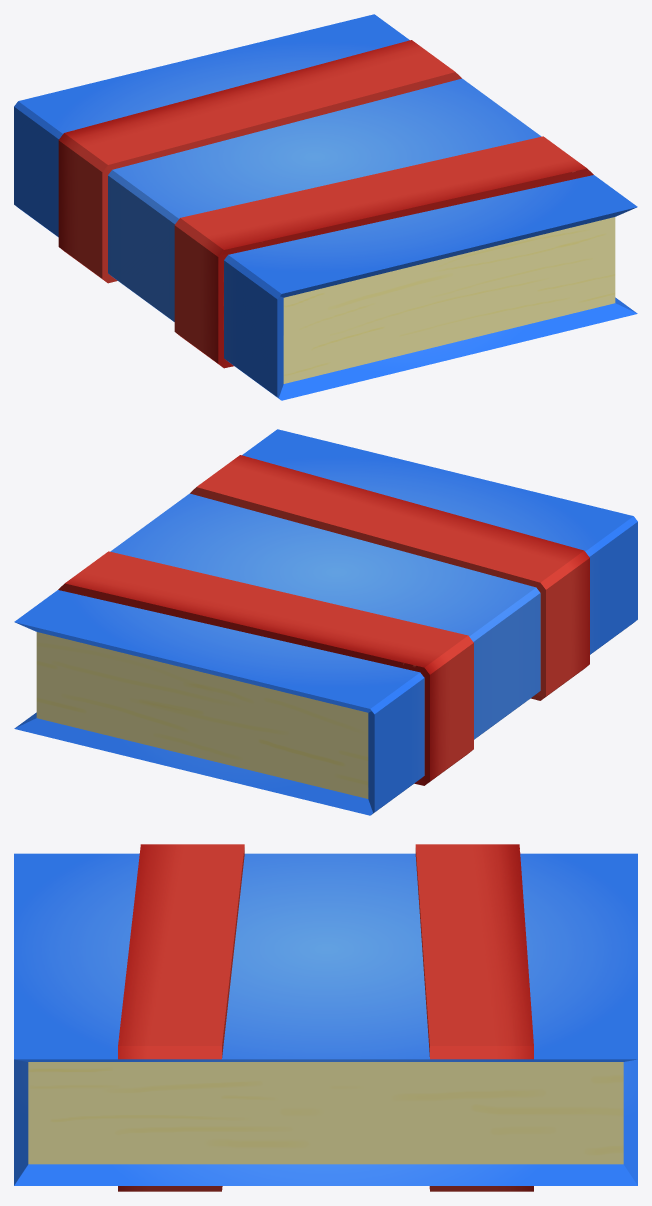
The model's file is Book_Bound_A.fbx.
3 views of the same model, one above another, from view 1: azimuth 30°, elevation 25°; view 2: azimuth 150°, elevation 25°; view 3: azimuth 270°, elevation 25° (orthographic). The views are drawn at different scales.
Parts seen in each view (by area): view 1: book_bound; view 2: book_bound; view 3: book_bound.
Boxes of the visible parts, x1,y1,x2,y2 form: book_bound: (14, 14, 637, 400); book_bound: (14, 429, 637, 815); book_bound: (14, 844, 637, 1191).
Size of the model in its own units: 42.46 by 13.64 by 52.95.
1 material, 1 textured.
